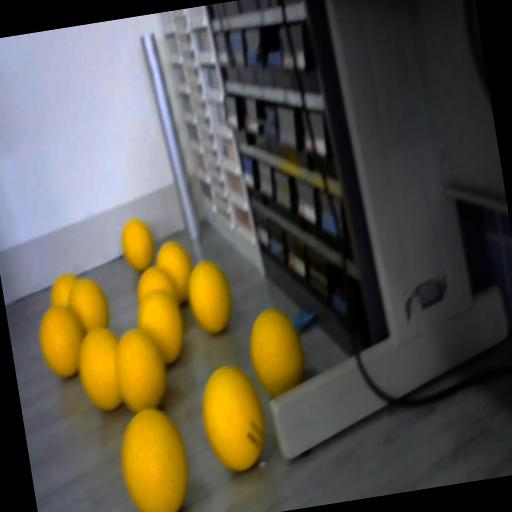FUEL: (112, 400, 194, 512), (195, 360, 271, 476), (243, 304, 309, 400), (72, 324, 129, 414), (33, 300, 91, 382), (132, 284, 188, 368), (182, 256, 236, 336), (152, 238, 197, 306), (118, 216, 157, 274), (46, 272, 82, 310)
